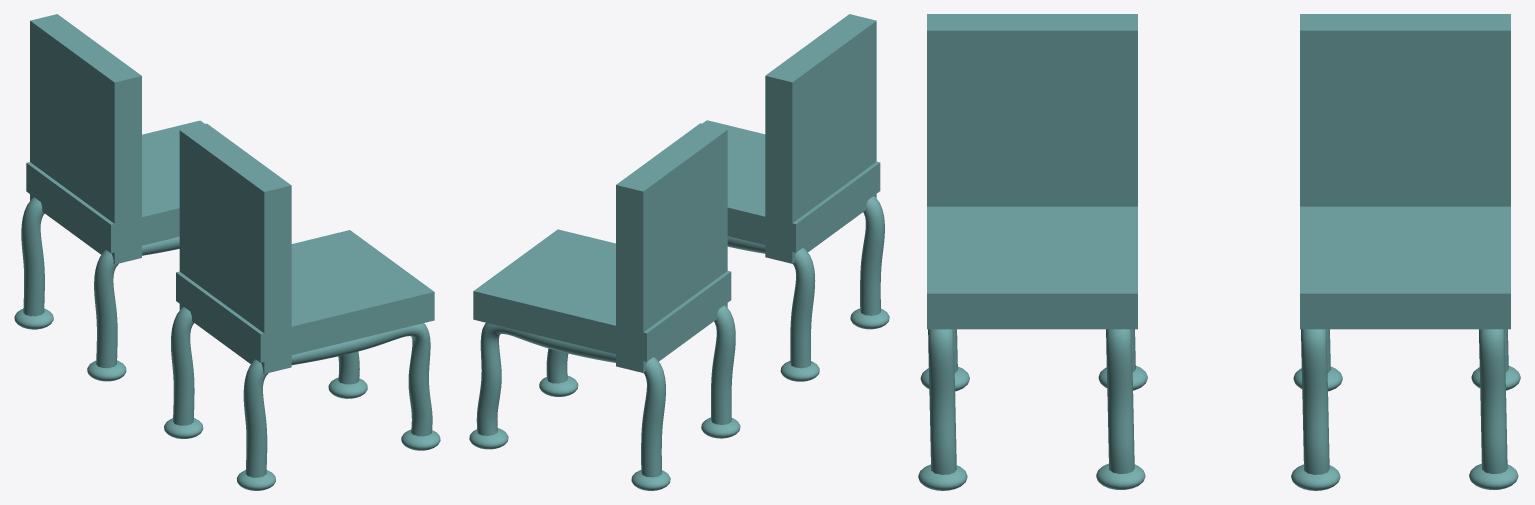
The model's file is Chairs2.fbx.
3 renders of one model, left to right at view 1: azimuth 30°, elevation 25°; view 2: azimuth 150°, elevation 25°; view 3: azimuth 270°, elevation 25°, orthographic. The views are drawn at different scales.
Visible parts, largest first — view 1: extrudedSurface8, extrudedSurface7; view 2: extrudedSurface7, extrudedSurface8; view 3: extrudedSurface8, extrudedSurface7.
Boxes of the visible parts, box(x1,y1,x2,y2) form: extrudedSurface8: box(164, 123, 440, 490); extrudedSurface7: box(14, 14, 204, 381); extrudedSurface7: box(469, 123, 740, 490); extrudedSurface8: box(702, 14, 889, 381); extrudedSurface8: box(918, 14, 1147, 490); extrudedSurface7: box(1291, 14, 1520, 490).
Bounding box in the file's own units: 3.52 × 5.08 × 7.41.
